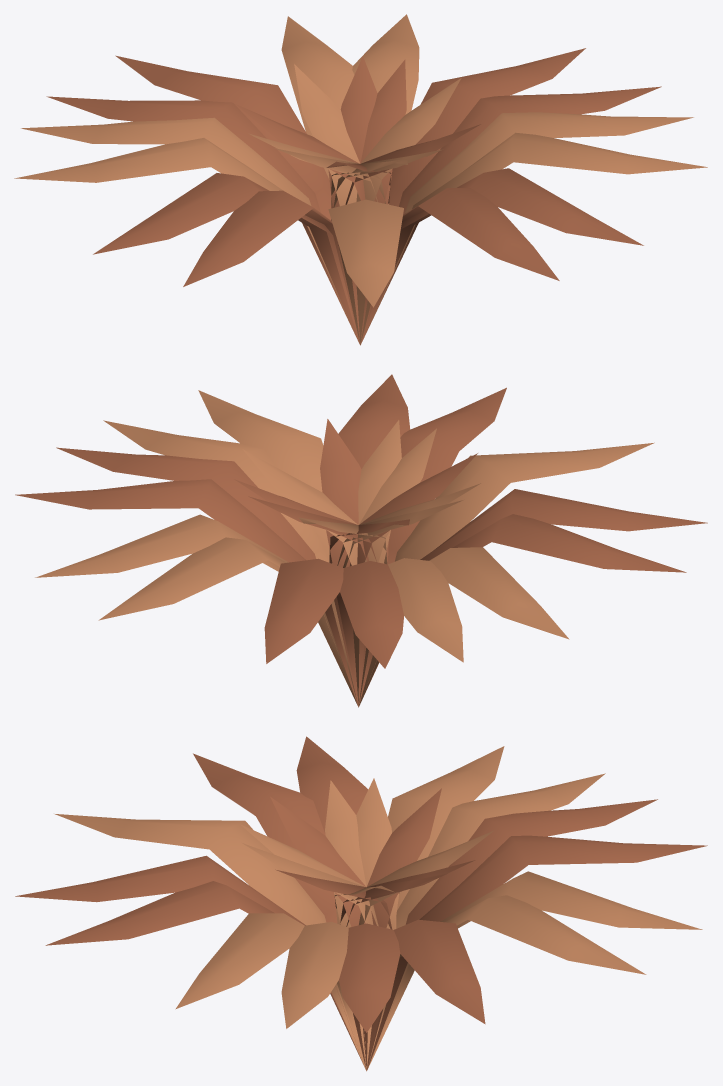
The model's file is alien-rosette-070.glb.
3 views of the same model, one above another, from view 1: azimuth 30°, elevation 25°; view 2: azimuth 150°, elevation 25°; view 3: azimuth 270°, elevation 25° (orthographic).
Visible parts, largest first — view 1: alien-rosette-070 / N17 / copper rosette leaf, alien-rosette-070 / N18 / copper leaf edge; view 2: alien-rosette-070 / N17 / copper rosette leaf, alien-rosette-070 / N18 / copper leaf edge; view 3: alien-rosette-070 / N17 / copper rosette leaf, alien-rosette-070 / N18 / copper leaf edge.
Part boxes in pixels (<box>): alien-rosette-070 / N17 / copper rosette leaf: <box>46,48,661,345</box>; alien-rosette-070 / N18 / copper leaf edge: <box>14,14,707,344</box>; alien-rosette-070 / N17 / copper rosette leaf: <box>15,374,707,706</box>; alien-rosette-070 / N18 / copper leaf edge: <box>35,390,654,707</box>; alien-rosette-070 / N17 / copper rosette leaf: <box>15,736,707,1070</box>; alien-rosette-070 / N18 / copper leaf edge: <box>55,746,702,1070</box>.
Size of the model in its own units: 0.9129 by 0.344 by 0.9029.
